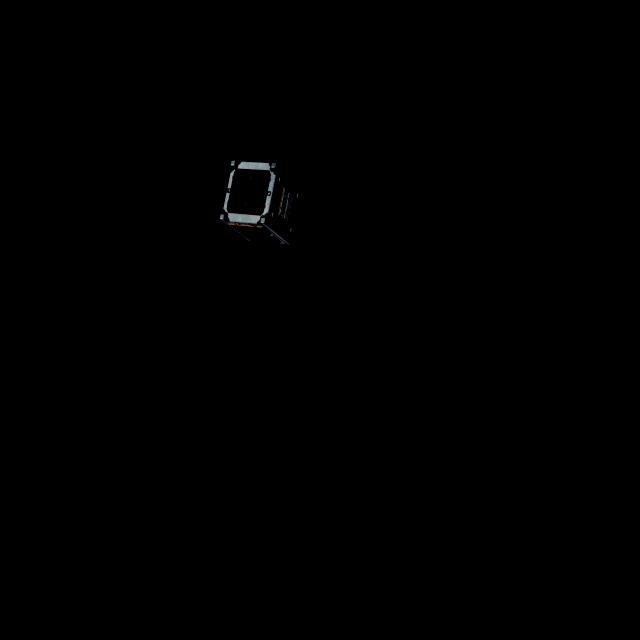satellite: (205, 153, 308, 252)
